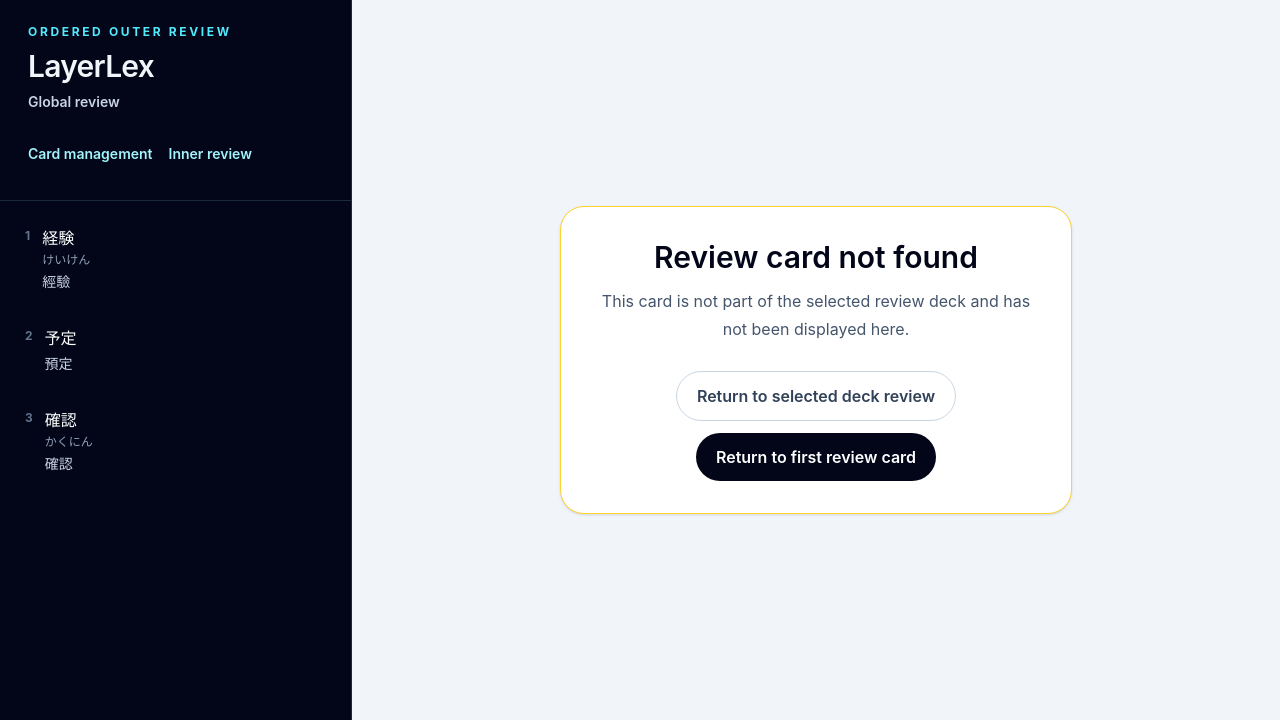
outer review deck states and routing › handles an unknown card and returns to the first available card
Check: the message shows "Review card not found", box [654,239,978,275]
What coordinates should you click on to do the following:
click the button "Return to first review card"
I would click on:
 (816, 457)
Its box is [696,433,936,481].
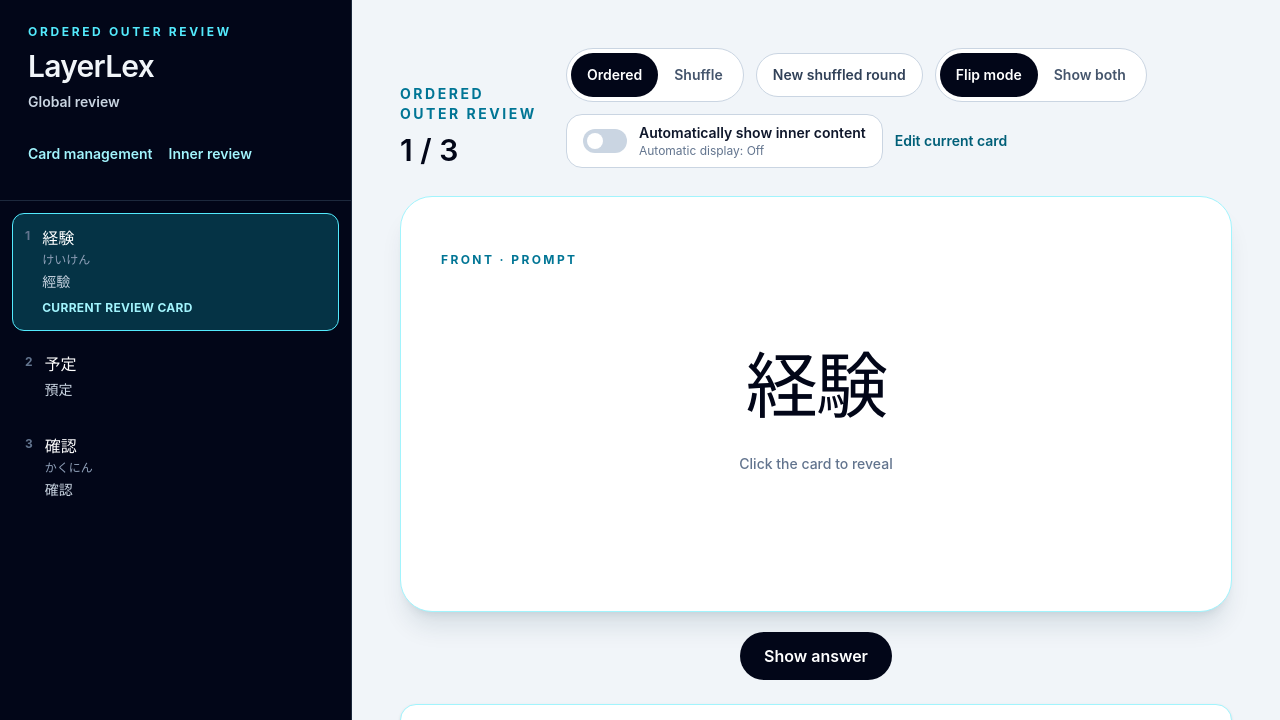
Check: the text named "Review progress" reads "1 / 3", box [400,132,458,168]
